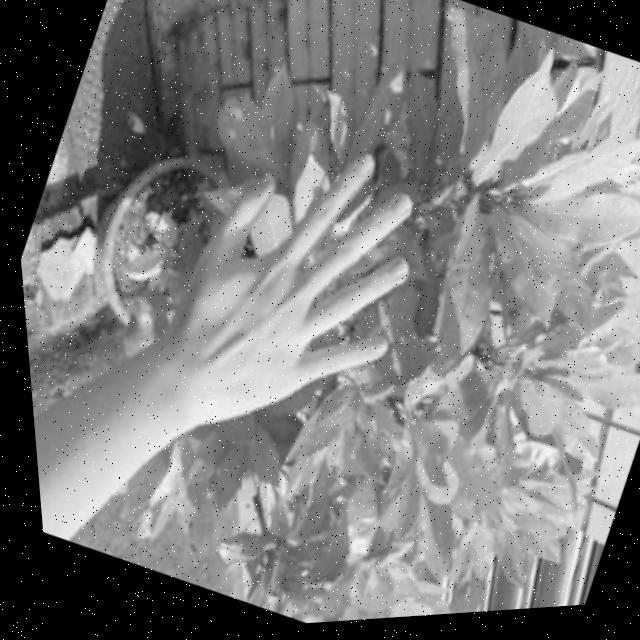no-gloves: (124, 104, 458, 480)
